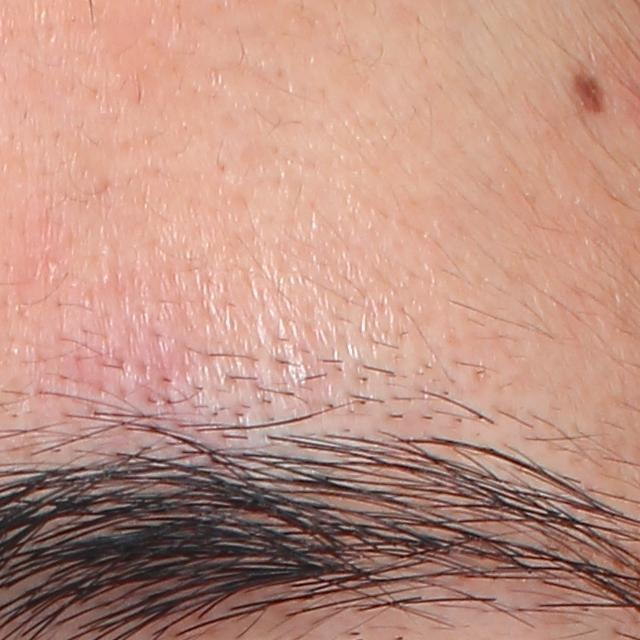nevus: (571, 69, 615, 116)
